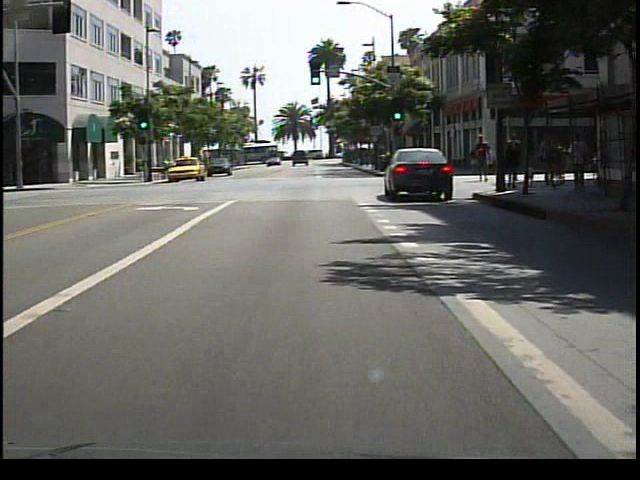person: (470, 132, 497, 188)
